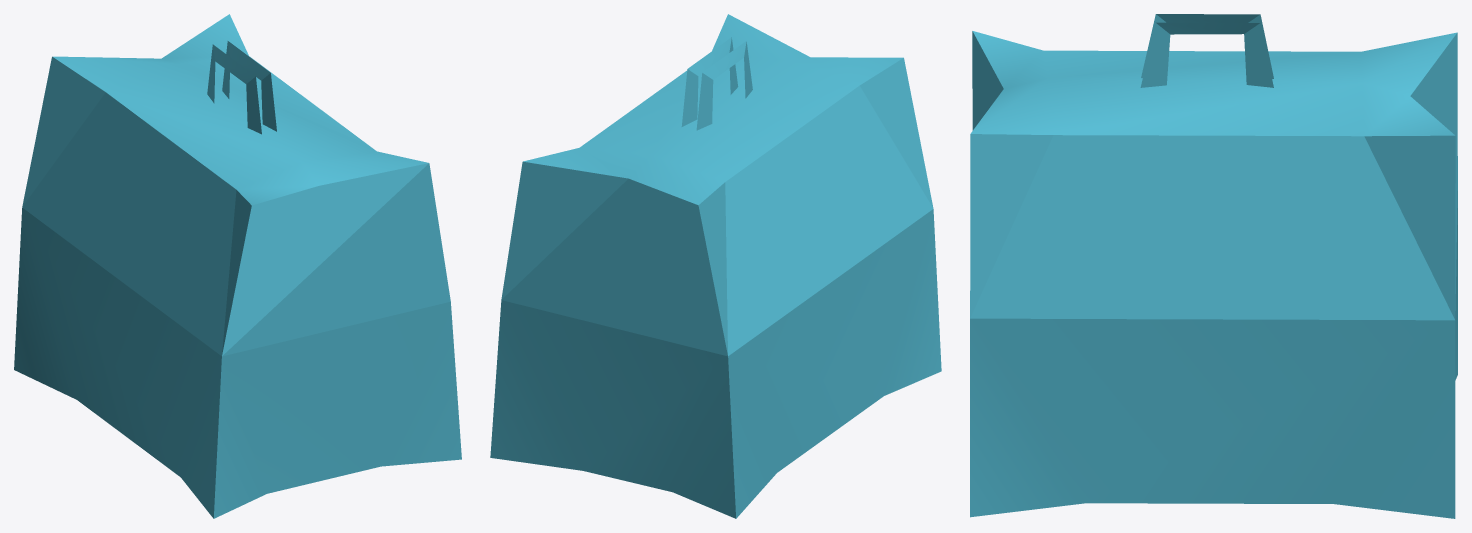
The model's file is docbag.obj.
3 views of the same model, side by side, from view 1: azimuth 30°, elevation 25°; view 2: azimuth 150°, elevation 25°; view 3: azimuth 270°, elevation 25° (orthographic). The views are drawn at different scales.
Visible parts, largest first — view 1: Box02; view 2: Box02; view 3: Box02.
Part boxes in pixels (x1,y1,x2,y2): Box02: [14, 14, 461, 518]; Box02: [490, 14, 941, 518]; Box02: [970, 14, 1457, 518].
Size of the model in its own units: 13.17 by 18.02 by 18.61.
